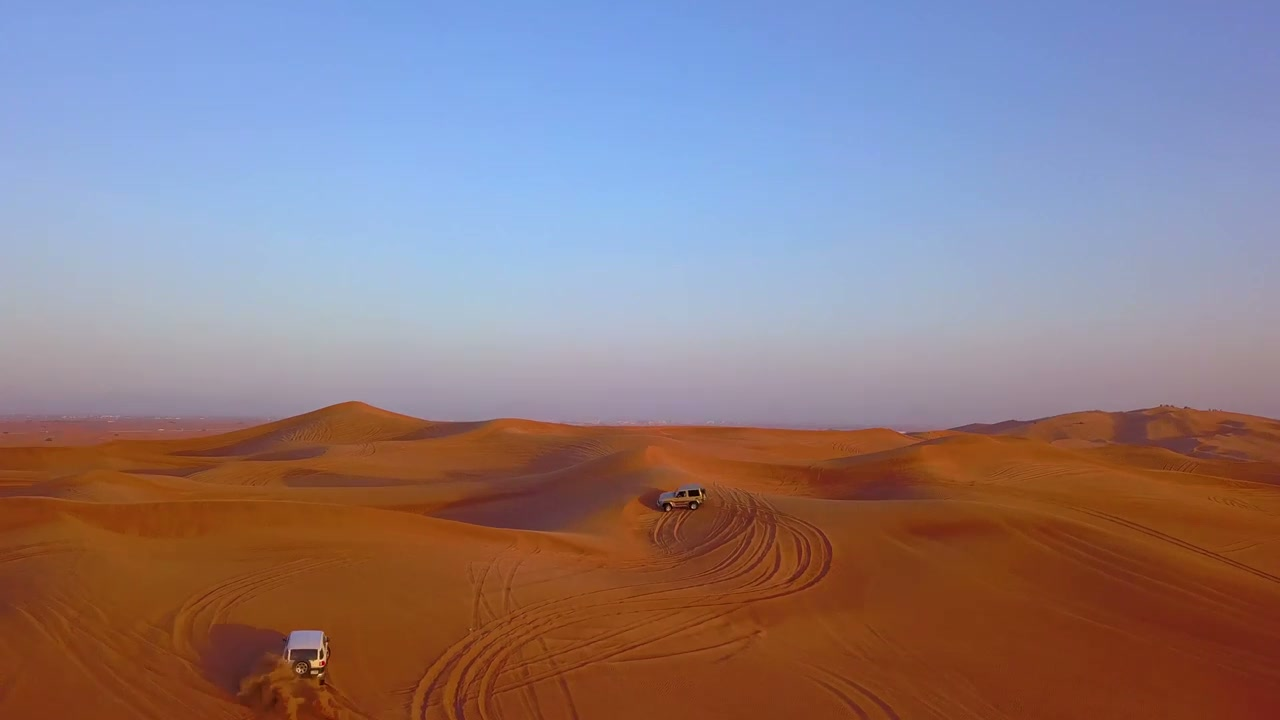vehicle_track: (410, 488, 831, 719), (171, 556, 353, 673), (1066, 505, 1279, 583), (805, 663, 900, 719)
